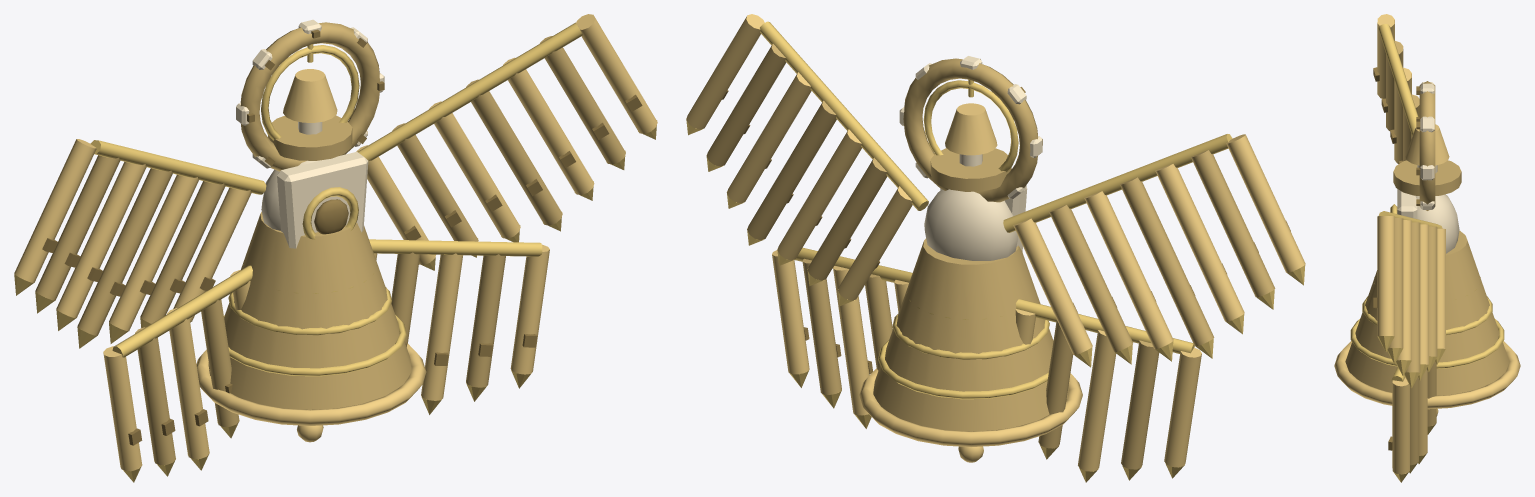
The model's file is cantor.glb.
3 views of the same model, side by side, from view 1: azimuth 30°, elevation 25°; view 2: azimuth 150°, elevation 25°; view 3: azimuth 270°, elevation 25° (orthographic). The views are drawn at different scales.
Parts seen in each view (by area): view 1: bell, bell.002, cantor*1.15, bell*1.4, bell.009, gold.006, bell*1.012, bell*1.013, bell.010, bell.008, bell*1.014, bell*1.009 (+26 smaller); view 2: bell, bell.002, cantor*1.0, bell*1.4, bell.009, bell*1.012, bell*1.013, bell.010, bell.008, gold.006, bell.004, bell*1.014 (+23 smaller); view 3: bell, bell*1.4, bell*1.007, bell*1.010, bell.002, bell.001, bell.004, gold.020, bell*1.006, bell*1.005, bell.005, bell.003 (+16 smaller).
Part boxes in pixels (<box>): bell: <box>208,212,411,409</box>; bell.002: <box>240,22,380,171</box>; cantor*1.15: <box>277,151,368,248</box>; bell*1.4: <box>196,343,426,425</box>; bell.009: <box>77,168,172,335</box>; gold.006: <box>358,22,582,160</box>; bell*1.012: <box>109,174,199,330</box>; bell*1.013: <box>56,161,146,318</box>; bell.010: <box>35,155,120,300</box>; bell.008: <box>140,181,225,323</box>; bell*1.014: <box>14,139,96,282</box>; bell*1.009: <box>421,253,462,400</box>; bell: <box>873,238,1068,431</box>; bell.002: <box>903,58,1037,202</box>; cantor*1.0: <box>924,189,1017,260</box>; bell*1.4: <box>859,368,1082,446</box>; bell.009: <box>1120,177,1214,346</box>; bell*1.012: <box>1084,191,1173,349</box>; bell*1.013: <box>1155,164,1244,321</box>; bell.010: <box>1191,150,1275,297</box>; bell.008: <box>1049,204,1132,352</box>; gold.006: <box>760,21,928,210</box>; bell.004: <box>747,100,836,240</box>; bell*1.014: <box>1226,134,1305,272</box>; bell: <box>1345,230,1509,395</box>; bell*1.4: <box>1334,341,1520,409</box>; bell*1.007: <box>1377,216,1394,336</box>; bell*1.010: <box>1392,377,1409,474</box>; bell.002: <box>1419,81,1435,210</box>; bell.001: <box>1393,160,1461,195</box>; bell.004: <box>1406,222,1420,372</box>; gold.020: <box>1378,24,1418,136</box>; bell*1.006: <box>1397,220,1411,360</box>; bell*1.005: <box>1420,224,1428,364</box>; bell.005: <box>1388,218,1403,348</box>; bell.003: <box>1429,226,1437,356</box>.
Size of the model in its own units: 2.96 by 1.85 by 0.93.
